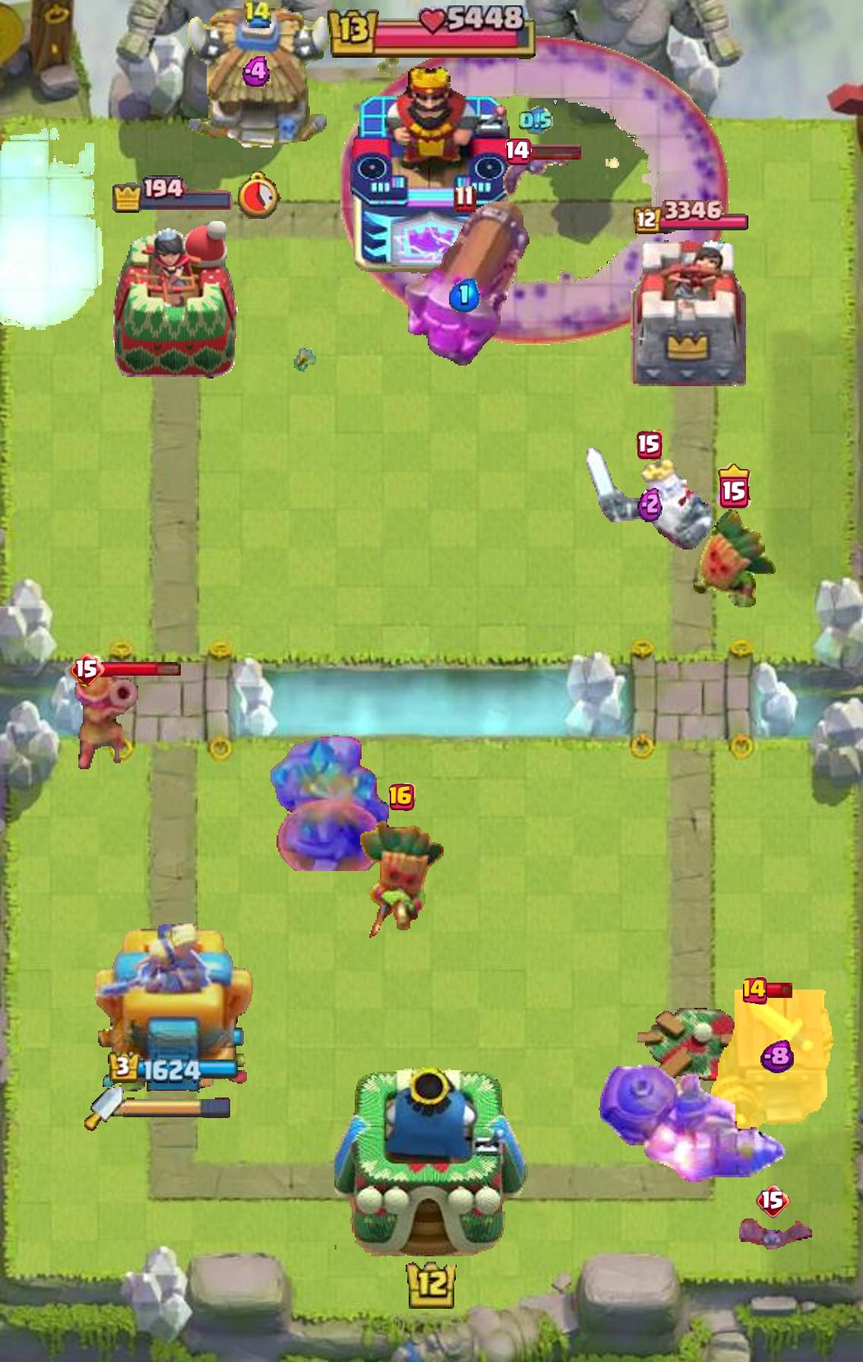elixir: (759, 1039, 793, 1074), (449, 278, 481, 312), (519, 106, 553, 136), (242, 56, 273, 87), (638, 486, 663, 522)
